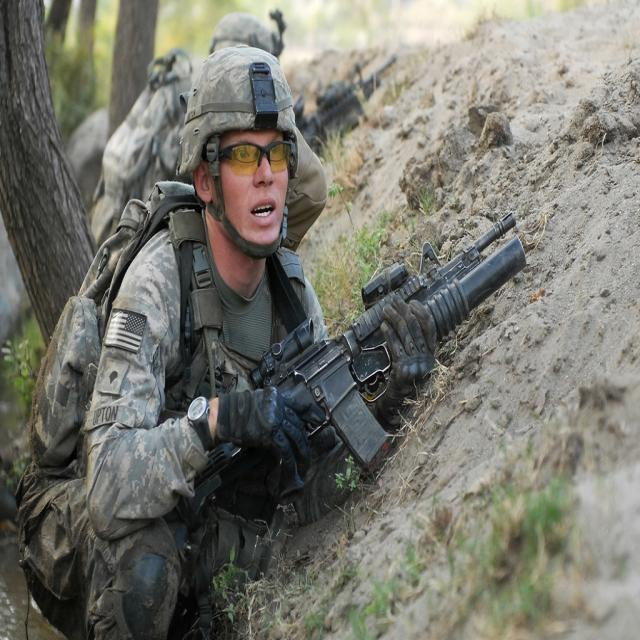weapon: (175, 220, 509, 551)
